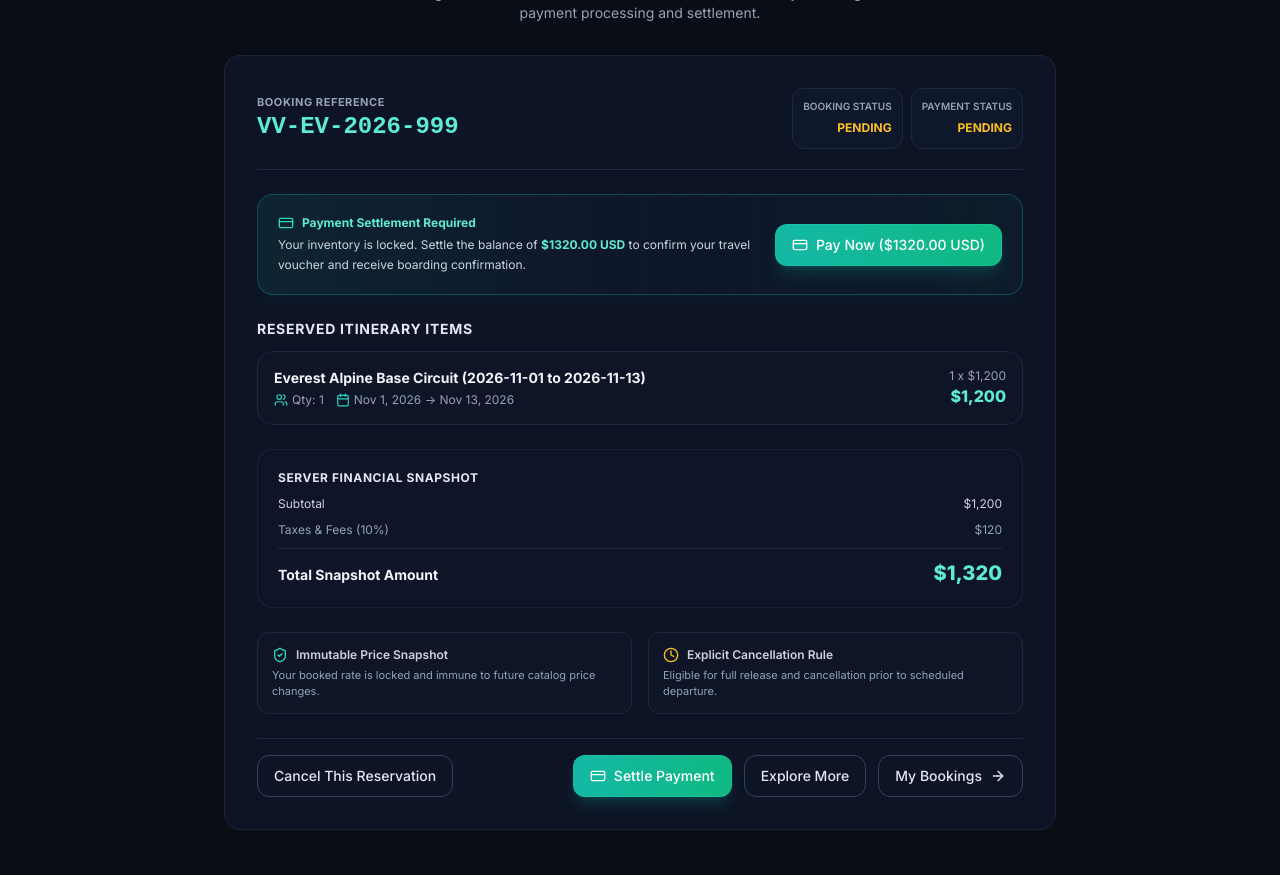
Test: Phase 9 Frontend: Booking & Availability Flow Tests › BookingConfirmationPage displays verified booking reference, pending status, and cancellation flow
The width and height of the screenshot is (1280, 875).
(page scrolled)
Expected: the text "VV-EV-2026-999" is shown, x1=257 y1=113 x2=459 y2=140
Click the button "Cancel This Reservation" at x=355, y=776, box x1=257 y1=755 x2=453 y2=797
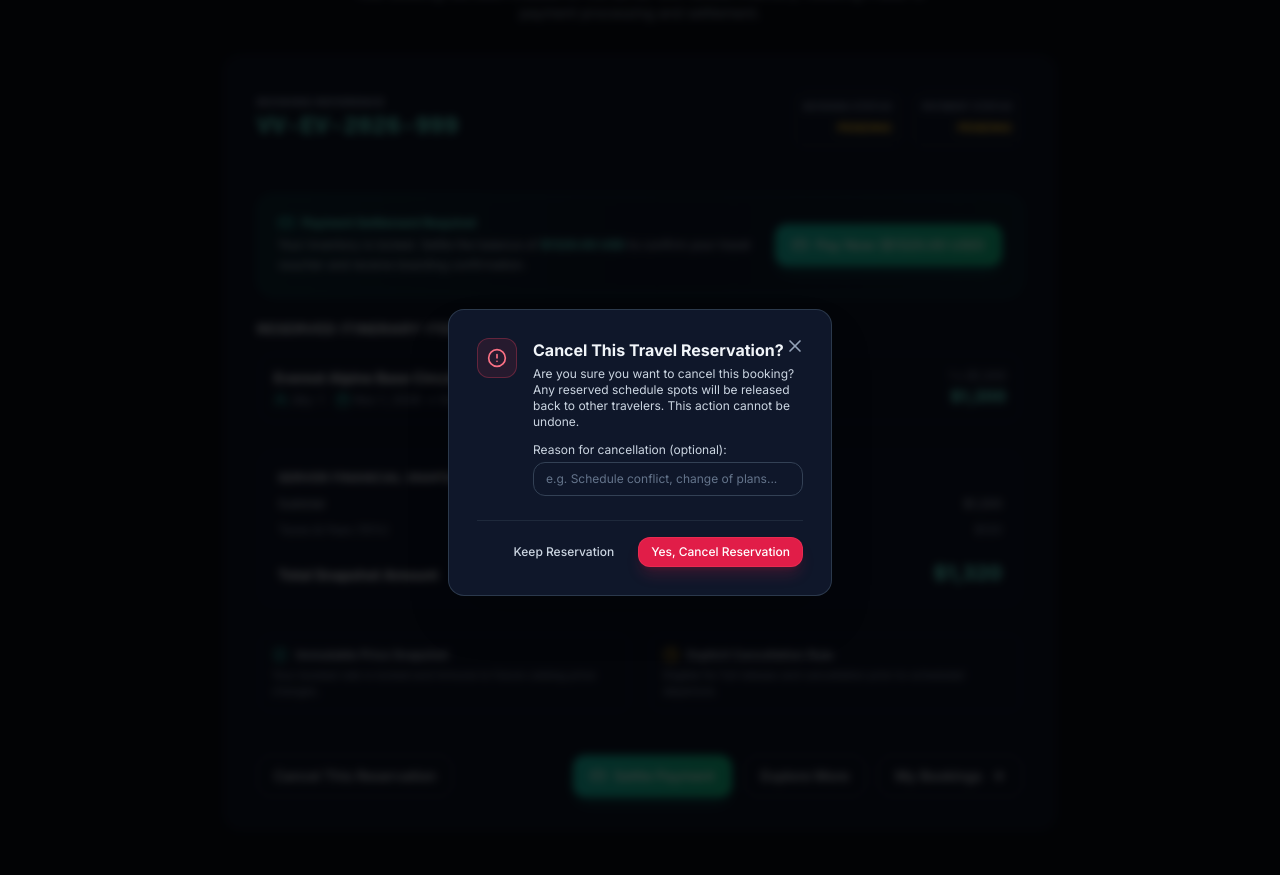
Expected: the heading "Cancel This Travel Reservation?" is shown, x1=533 y1=338 x2=803 y2=362
Click the button "Yes, Cancel Reservation" at x=721, y=552, box x1=638 y1=536 x2=803 y2=566
(page scrolled)
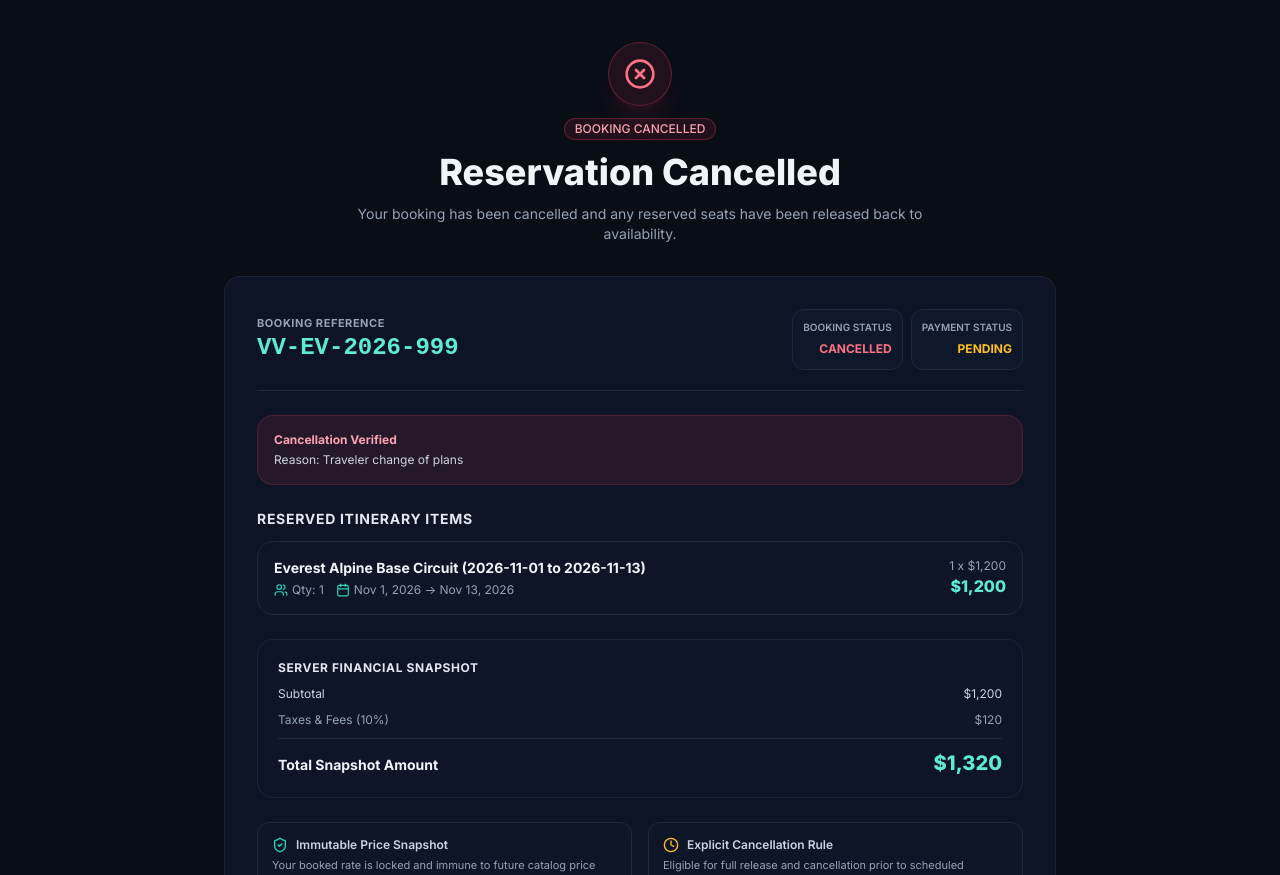
Expected: the heading "Reservation Cancelled" is shown, x1=439 y1=150 x2=841 y2=194
Expected: the text "BOOKING CANCELLED" is shown, x1=564 y1=118 x2=716 y2=140
